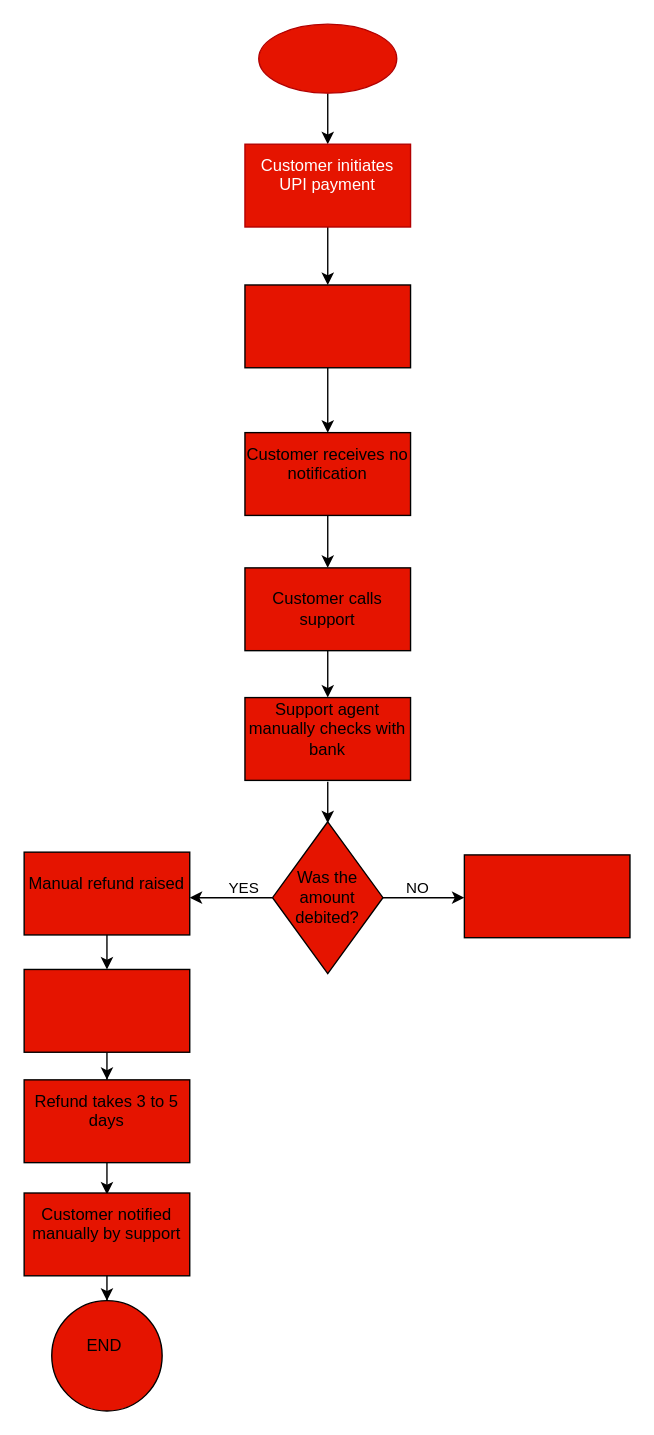
The diagram is 654 pixels wide and 1435 high, and some of its shapes have lost their labels. Here are the shapes that lost their labels. From the top down, the centre of each, then its label:
At [327,58]: "START".
At [327,326]: "Payment fails".
At [546,896]: "Case Closed".
At [106,1010]: "Finance team processes refund manually".
